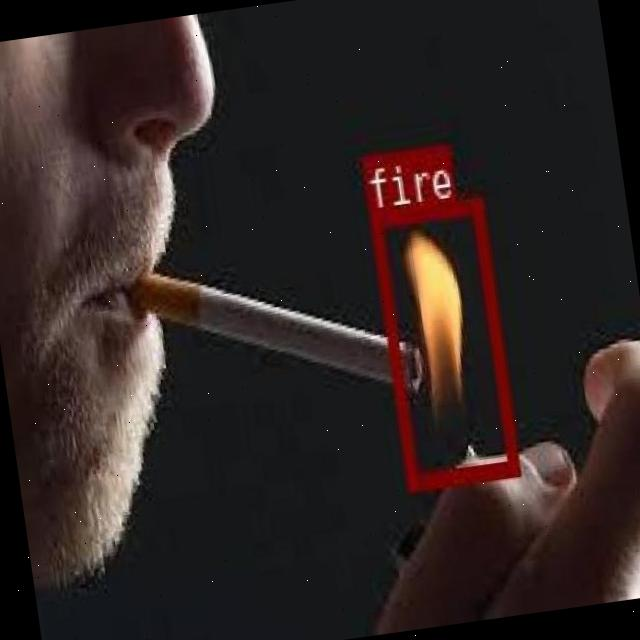fire: (368, 196, 520, 488)
